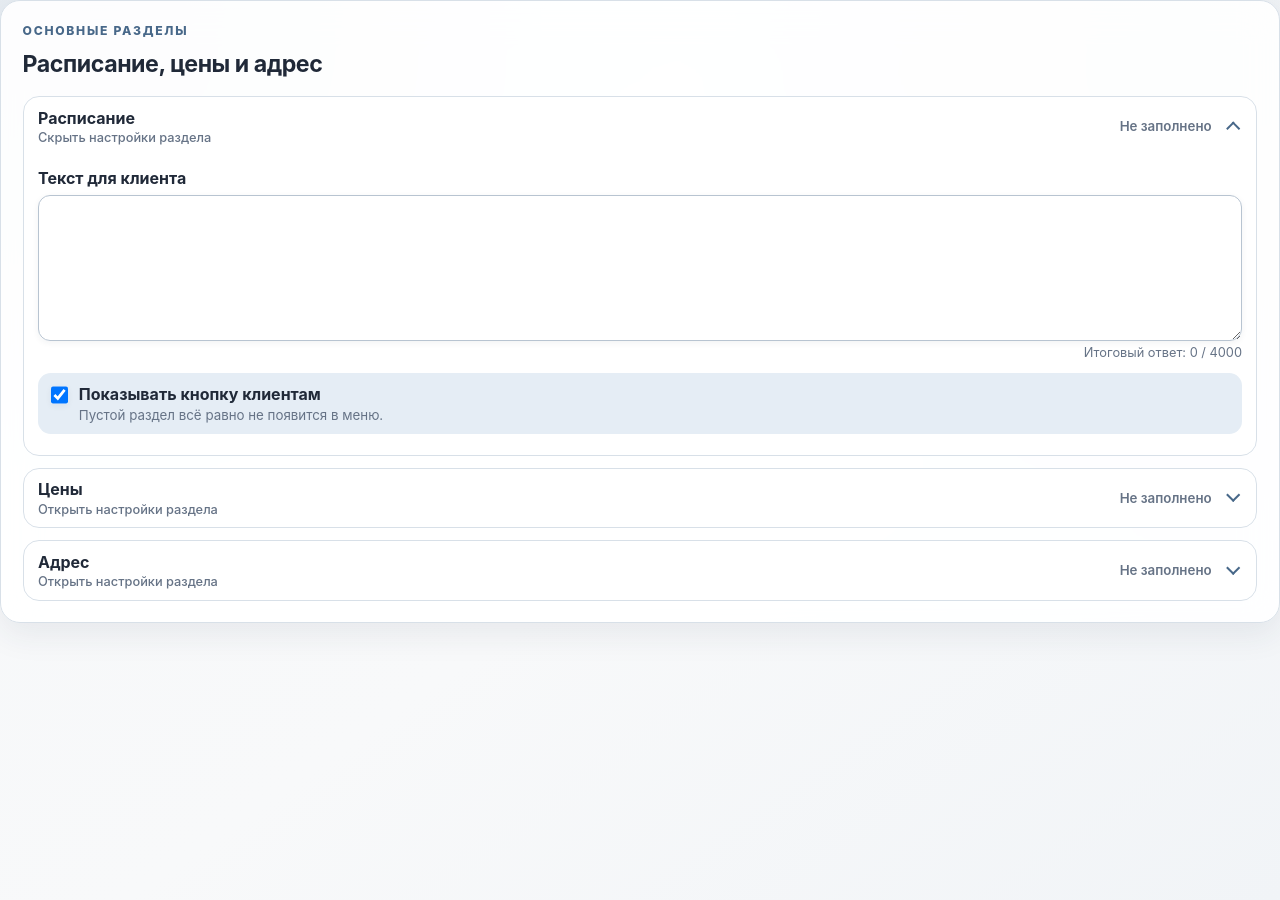
Test case: CoreSectionsFields › makes collapsed sections visibly discoverable and expandable
The image size is (1280, 900).
Expected: the 2nd element with class "disclosure-chevron" is shown, [1226,488,1240,503]
What coordinates should you click on to do the following:
click the heading "Цены Открыть настройки раздела Не заполнено"
I would click on:
 (60, 489)
Its box is [24,469,1256,527].
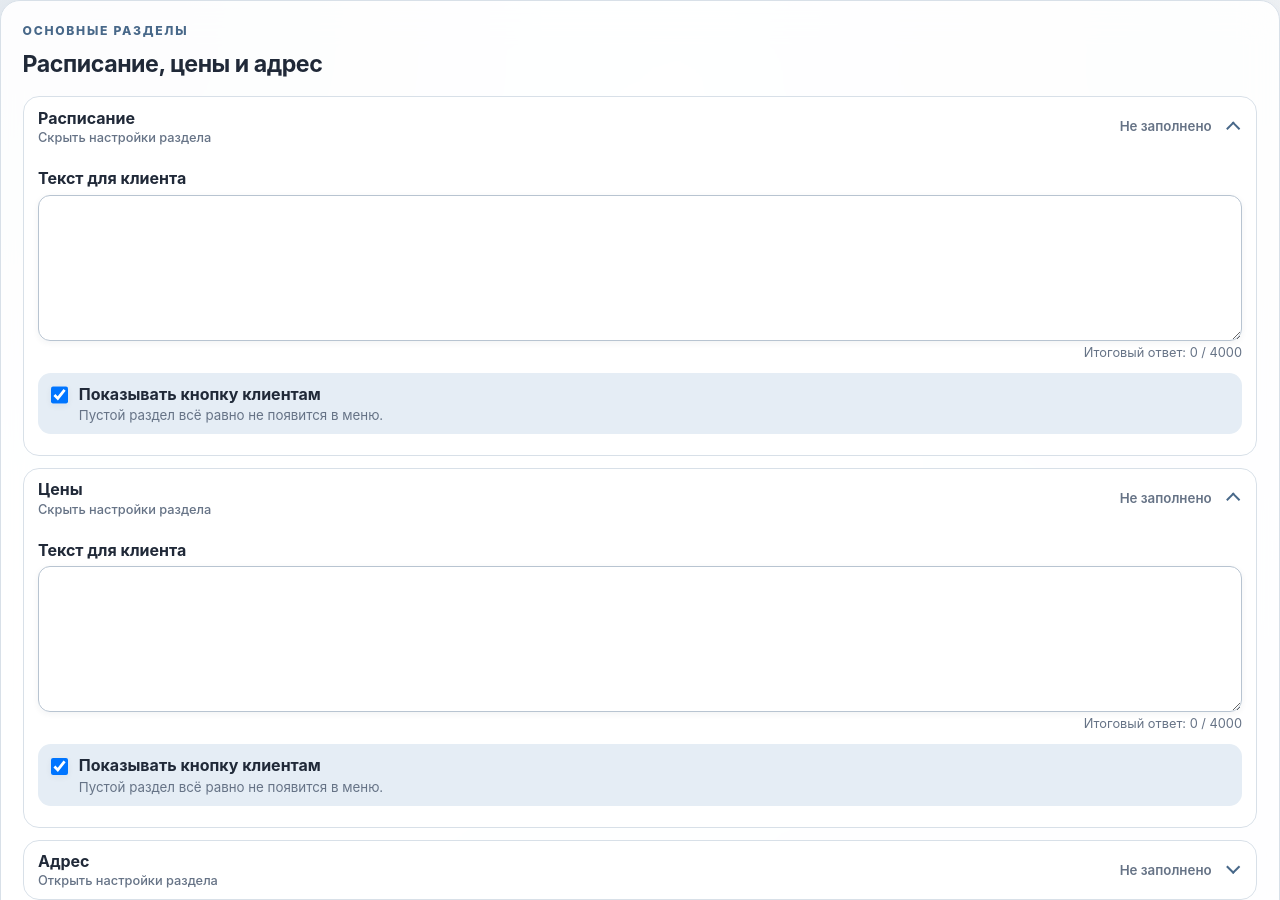
Now the heading "Цены Скрыть настройки раздела Не заполнено" is shown, box [24,469,1256,527]
